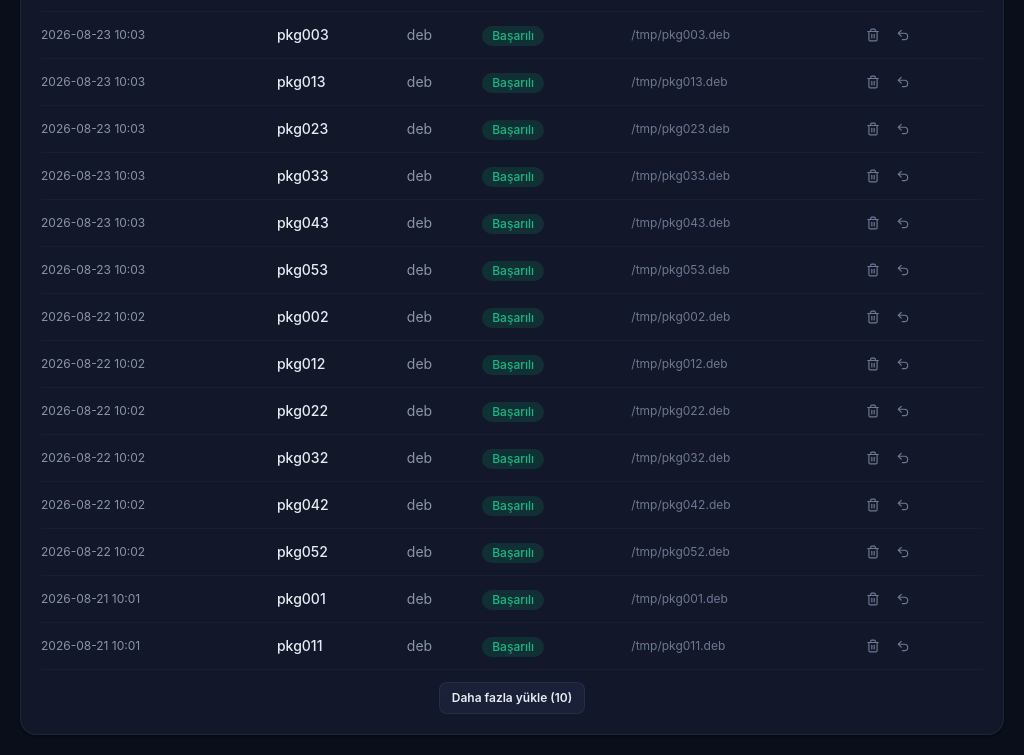
Installed — Faz 19b kapsam dalları › sayfalama: 60 kayıtta 'daha fazla' görünür ve kalanları açar
The image size is (1024, 755).
(page scrolled)
Expected: the text "pkg001" is shown, [277, 576, 407, 622]
Expected: the text "pkg051" is not shown
Step 1. Click the button "Daha fazla yükle (10)" → click(512, 698), box [439, 682, 585, 714]
(page scrolled)
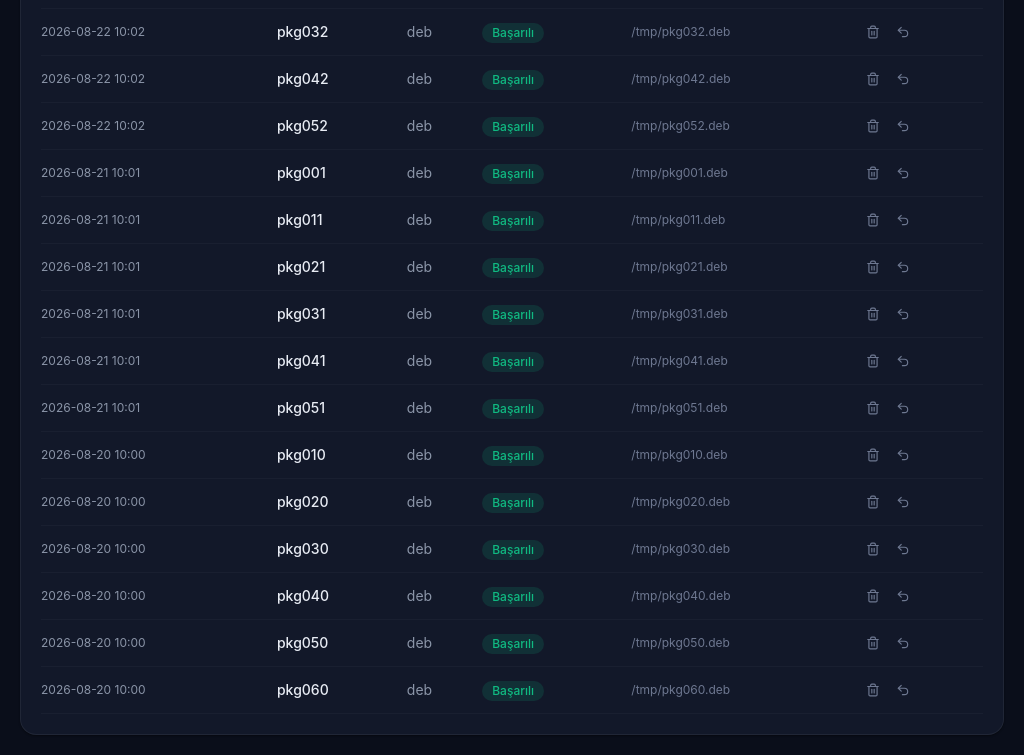
Result: the text "pkg051" is shown at [277, 384, 407, 432]
Result: the text "pkg060" is shown at [277, 666, 407, 714]
